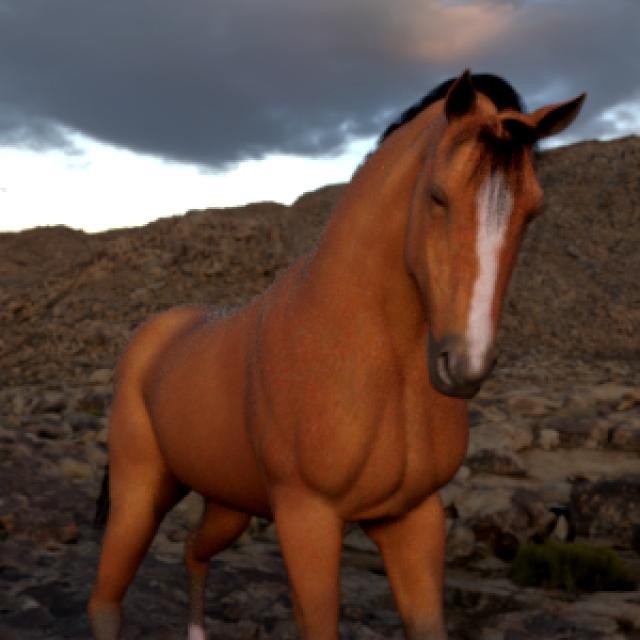horse: (89, 70, 585, 640)
